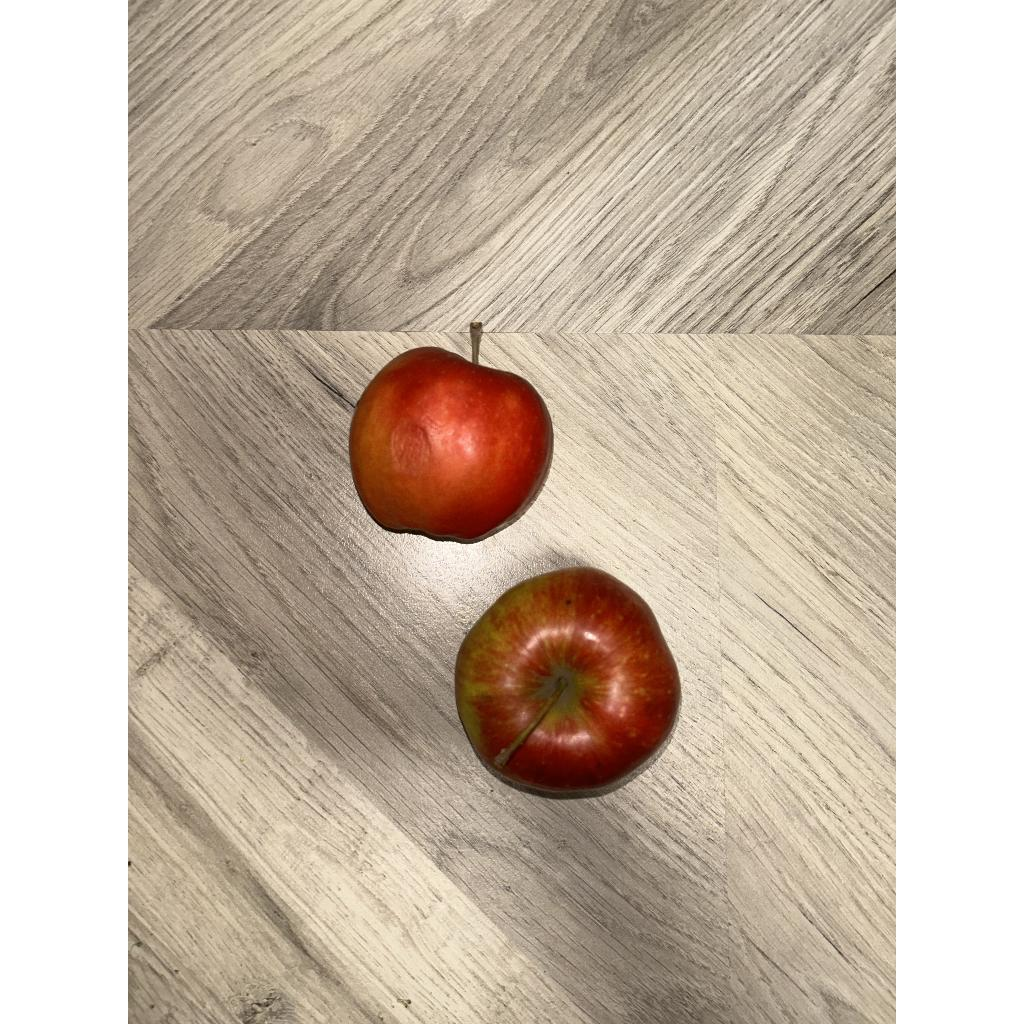apple: (454, 567, 682, 803), (348, 349, 554, 548)
